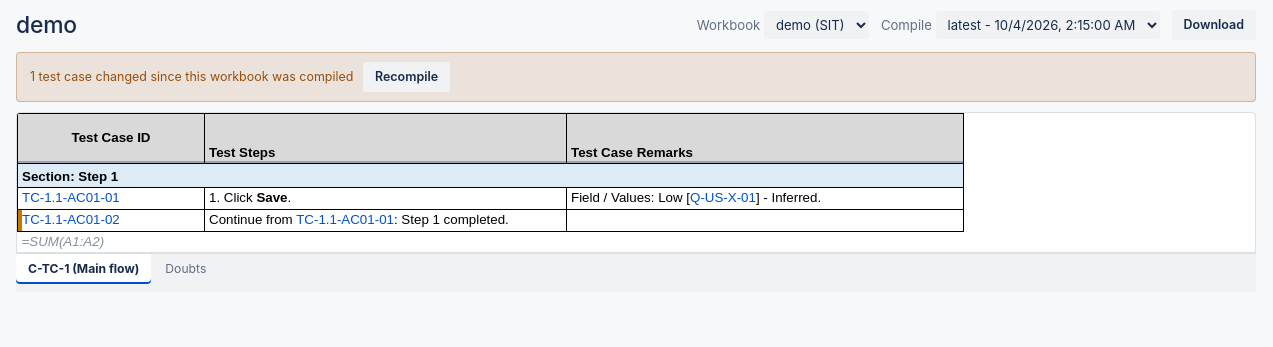
Scenario: WorkbookPage › shows a refusal verbatim and keeps the workbook on screen
Click the button "Recompile" at (407,77), box x1=363 y1=62 x2=450 y2=92
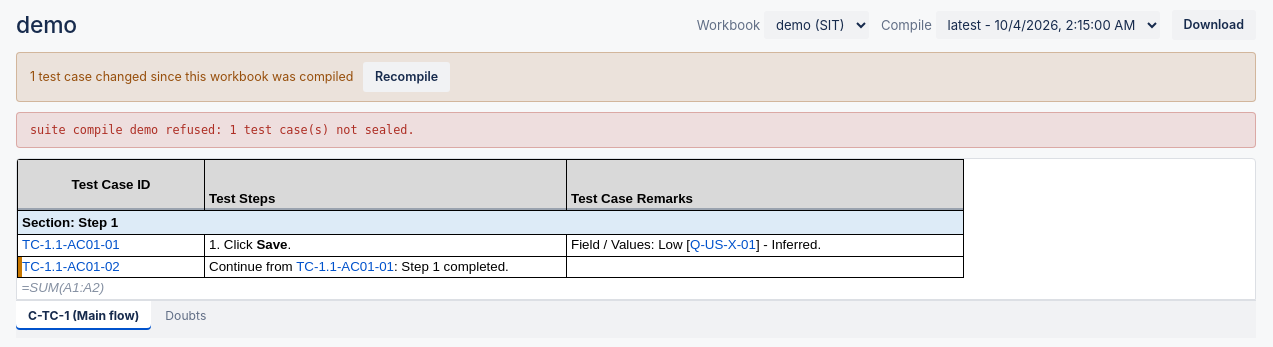
Expected: the tab "C-TC-1 (Main flow)" is shown, x1=16 y1=301 x2=151 y2=330
Now the text "suite compile demo refused: 1 test case(s) not sealed." is shown, box x1=30 y1=122 x2=414 y2=138
